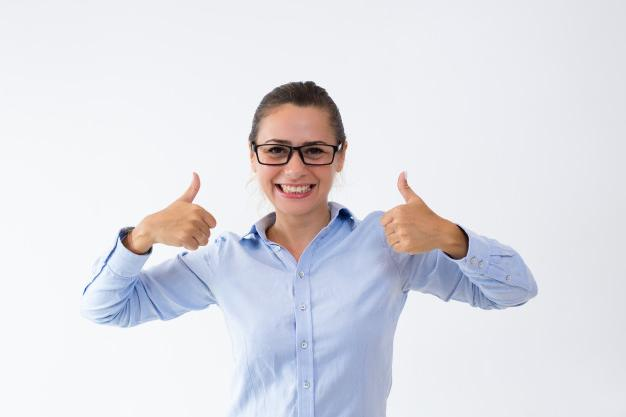thumbsup: (381, 170, 423, 254), (175, 171, 217, 251)
